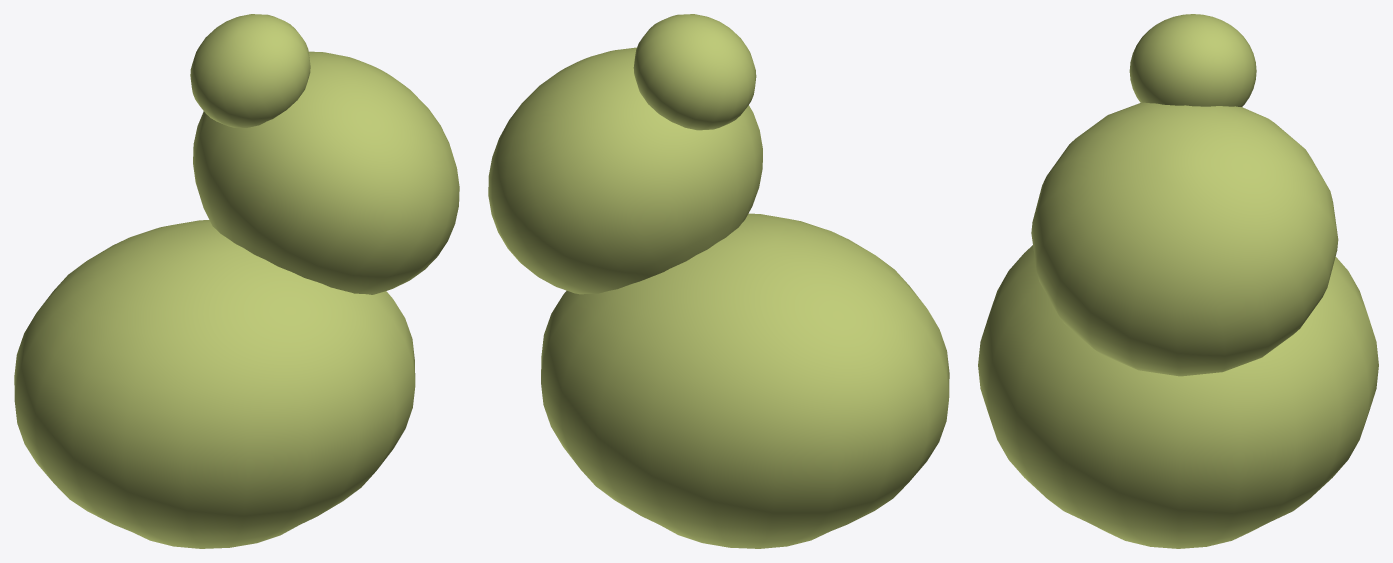
Rendered from PlantThree.fbx.
The picture shows the model from 3 angles, left to right: view 1: azimuth 30°, elevation 25°; view 2: azimuth 150°, elevation 25°; view 3: azimuth 270°, elevation 25°; orthographic projection. The views are drawn at different scales.
Visible parts, largest first — view 1: pSphere5, pSphere6, pSphere7; view 2: pSphere5, pSphere6, pSphere7; view 3: pSphere5, pSphere6, pSphere7.
Part boxes in pixels (bbox=[...]): pSphere5: bbox=[14, 220, 415, 548]; pSphere6: bbox=[193, 51, 459, 294]; pSphere7: bbox=[190, 14, 310, 127]; pSphere5: bbox=[541, 213, 949, 548]; pSphere6: bbox=[488, 47, 762, 294]; pSphere7: bbox=[633, 14, 756, 130]; pSphere5: bbox=[978, 245, 1378, 548]; pSphere6: bbox=[1031, 102, 1338, 376]; pSphere7: bbox=[1129, 14, 1256, 106].
Bounding box in the file's own units: 1.77 × 1.97 × 1.4.
